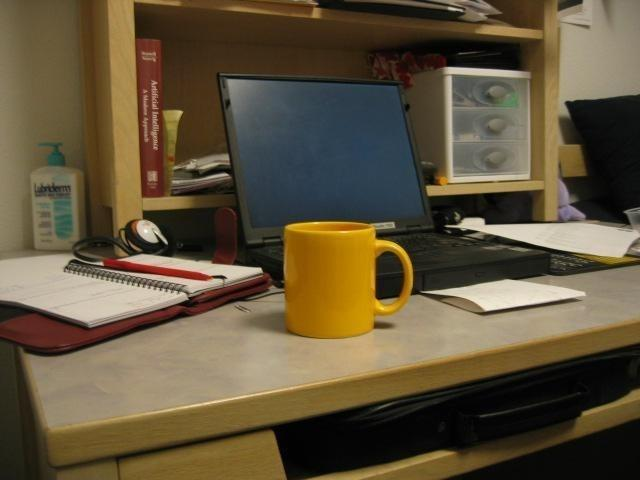cup-handle: (282, 218, 412, 340)
